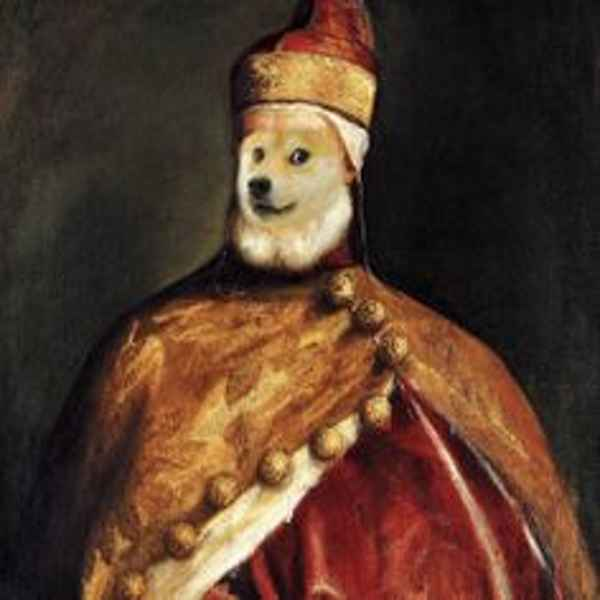doge: (232, 125, 341, 233)
